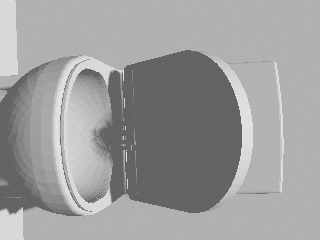lid_1: (124, 50, 252, 212)
